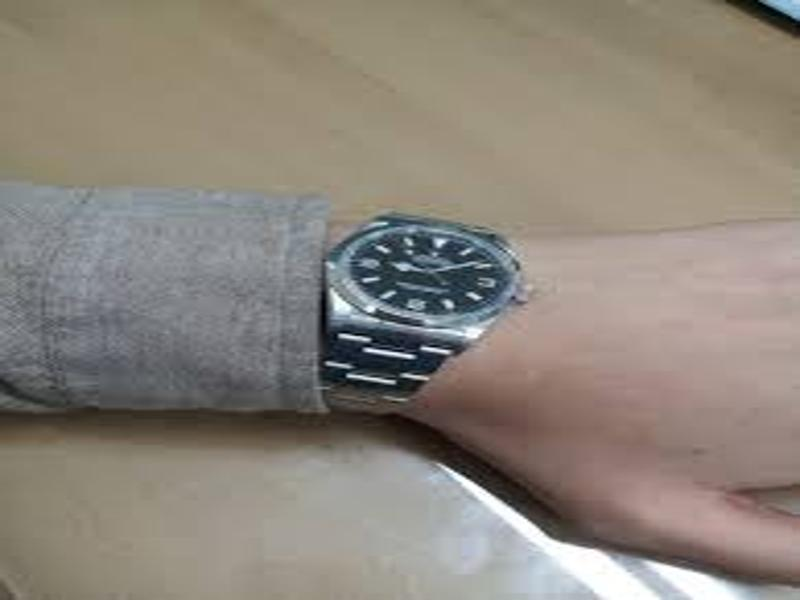watch: (316, 212, 537, 422)
